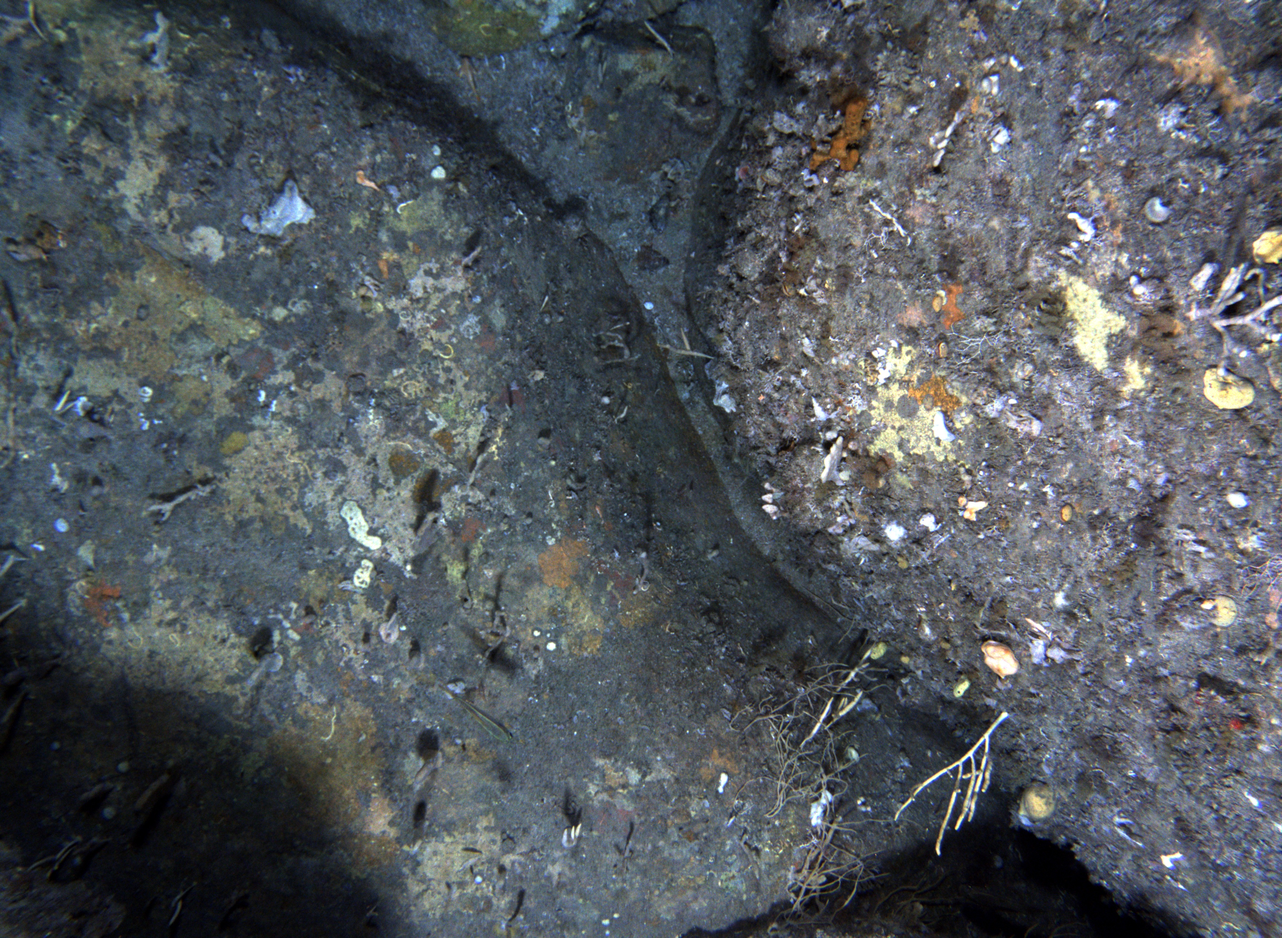Brachionichthyidae: (454, 56, 482, 104)
